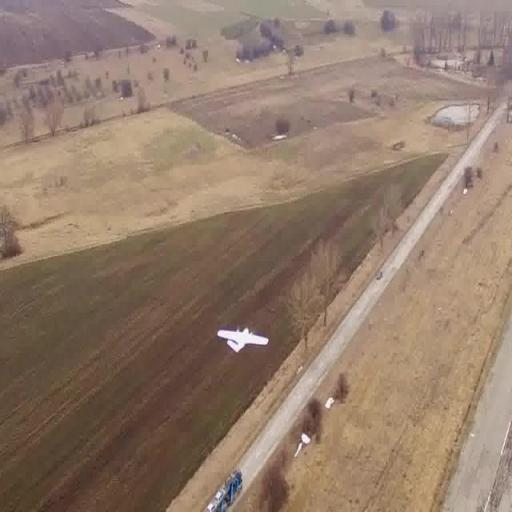uav: (210, 309, 280, 371)
